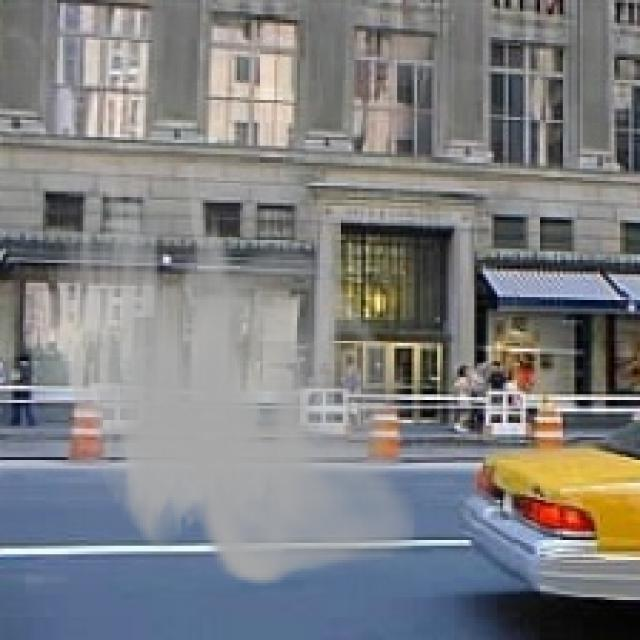Smoke: (37, 160, 417, 586)
